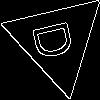D: (32, 16, 83, 63)
